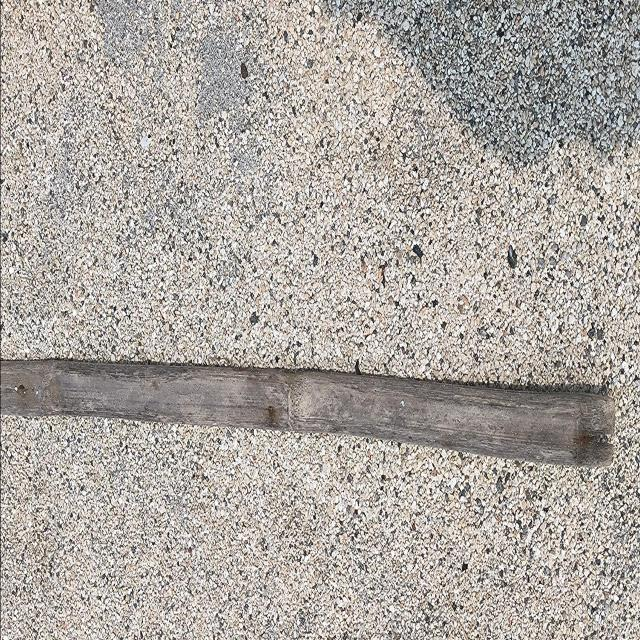wood_waste: (1, 358, 615, 471)
